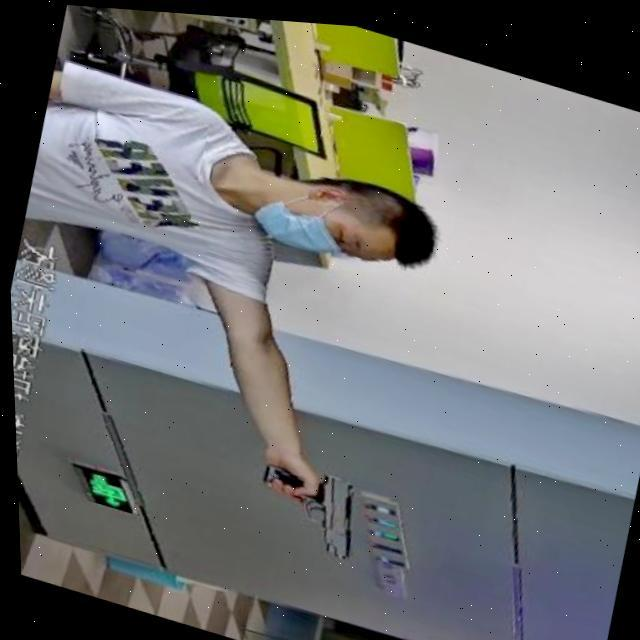gun: (222, 432, 386, 570)
